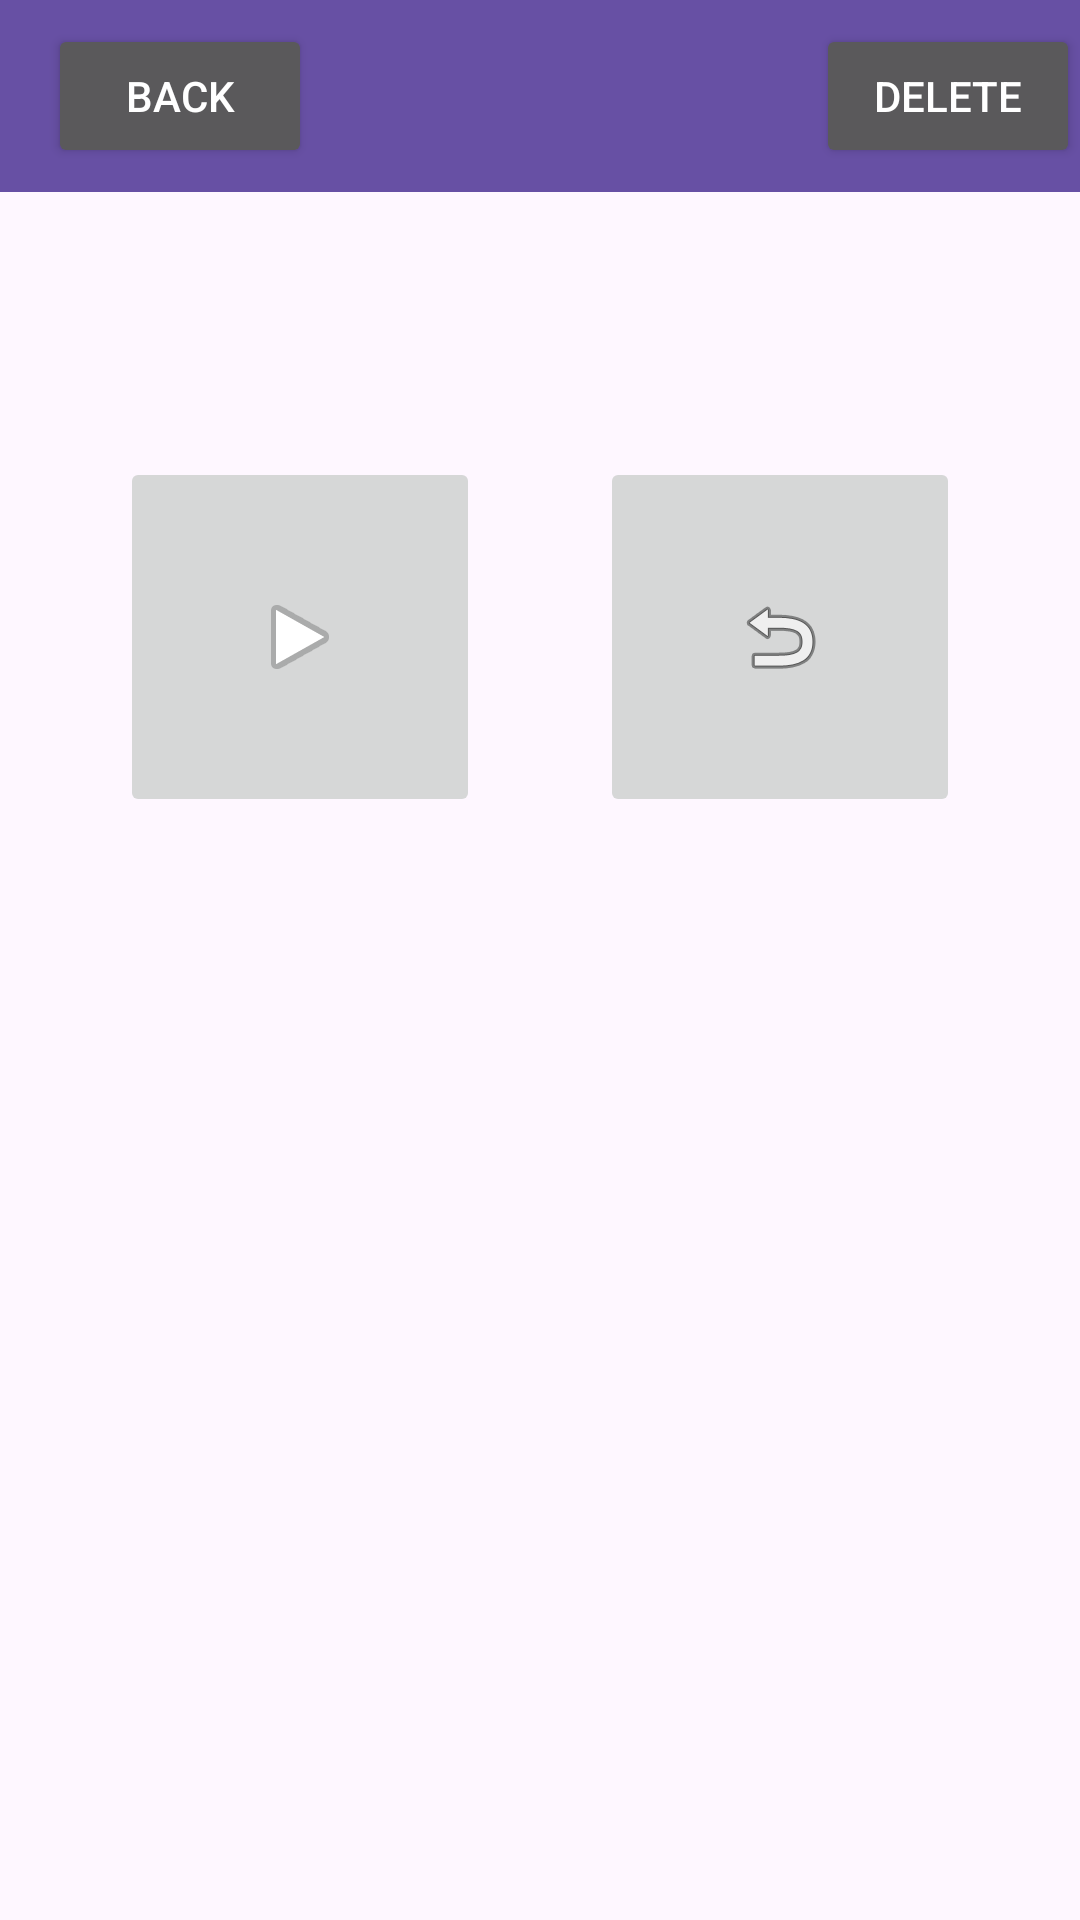

Named icons in this screenshot (1080px x 1920px) and their bounding boxes, (x1, y1, x2, y2):
play: (132, 475, 468, 799)
revert: (612, 475, 948, 799)
